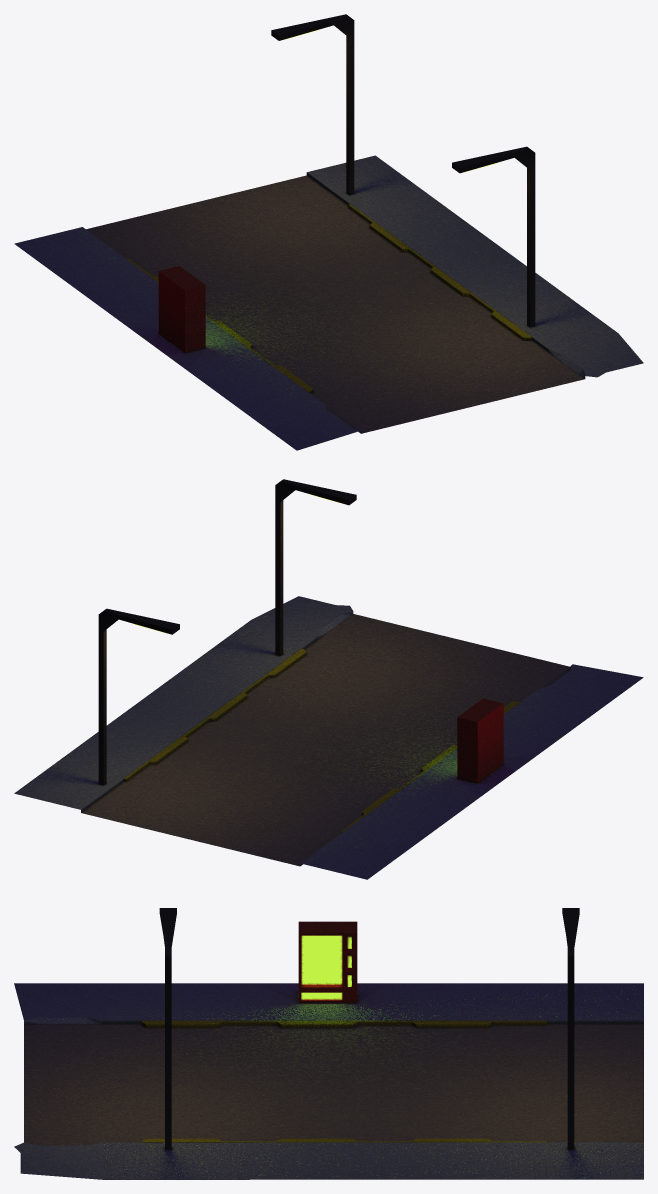
File: TestGeometry.fbx
3 renders of one model, top to bottom at view 1: azimuth 30°, elevation 25°; view 2: azimuth 150°, elevation 25°; view 3: azimuth 270°, elevation 25°, orthographic. The views are drawn at different scales.
Visible parts, largest first — view 1: Plane.053; view 2: Plane.053; view 3: Plane.053.
Boxes of the visible parts, <box> form: Plane.053: <box>14,14,643,450</box>; Plane.053: <box>14,479,643,879</box>; Plane.053: <box>14,908,643,1179</box>.
Size of the model in its own units: 1580 by 766 by 2140.
Materials: 1 (1 with a texture image).
